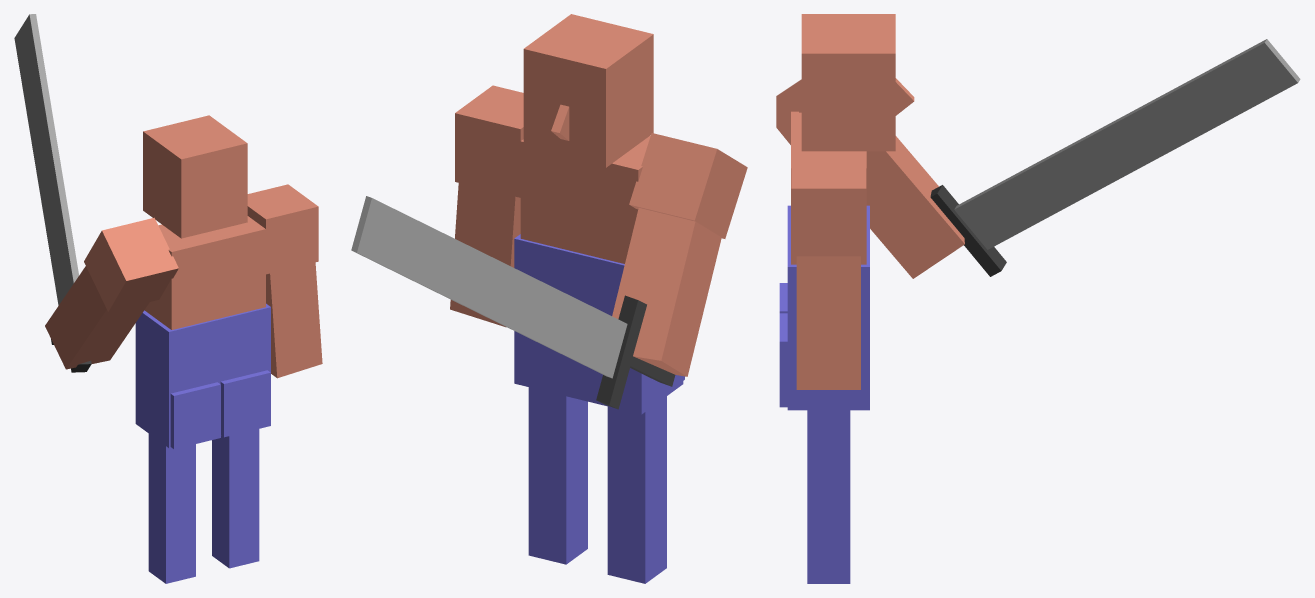
Rendered from Hero.fbx.
3 renders of one model, left to right at view 1: azimuth 30°, elevation 25°; view 2: azimuth 150°, elevation 25°; view 3: azimuth 270°, elevation 25°, orthographic. The views are drawn at different scales.
Parts seen in each view (by area): view 1: Cube.009, Cube.003, Cube.004, Cube.012, Cube.001, Cube.002, Cube.005, Cube.006, Cube.008, Cube.007, Cube.013, Cube.014; view 2: Cube.012, Cube.009, Cube.006, Cube.004, Cube.001, Cube.003, Cube.002, Cube.005, Cube.007, Cube.008, Cube.011, Cube.010 (+1 smaller); view 3: Cube.012, Cube.009, Cube.008, Cube.006, Cube.002, Cube.007, Cube.003, Cube.011, Cube.004, Cube.005, Cube.014.
Boxes of the visible parts, x1,y1,x2,y2 form: Cube.009: [143, 115, 247, 238]; Cube.003: [135, 303, 270, 447]; Cube.004: [144, 216, 265, 329]; Cube.012: [14, 14, 78, 305]; Cube.001: [148, 434, 195, 583]; Cube.002: [212, 429, 259, 568]; Cube.005: [84, 217, 178, 311]; Cube.006: [45, 266, 149, 369]; Cube.008: [266, 262, 322, 378]; Cube.007: [247, 184, 318, 274]; Cube.013: [170, 382, 220, 449]; Cube.014: [220, 370, 270, 437]; Cube.012: [351, 196, 627, 378]; Cube.009: [523, 14, 653, 167]; Cube.006: [612, 208, 721, 376]; Cube.004: [520, 135, 650, 263]; Cube.001: [607, 396, 666, 583]; Cube.003: [514, 234, 683, 414]; Cube.002: [528, 387, 587, 564]; Cube.005: [629, 133, 747, 238]; Cube.007: [455, 85, 523, 197]; Cube.008: [450, 183, 520, 327]; Cube.011: [596, 295, 646, 409]; Cube.010: [627, 346, 675, 386]; Cube.012: [954, 39, 1300, 249]; Cube.009: [801, 14, 895, 151]; Cube.008: [796, 256, 860, 389]; Cube.006: [866, 136, 964, 278]; Cube.002: [807, 410, 850, 583]; Cube.007: [791, 157, 866, 256]; Cube.003: [787, 205, 869, 410]; Cube.011: [930, 185, 1006, 276]; Cube.004: [791, 111, 866, 264]; Cube.005: [776, 79, 801, 144]; Cube.014: [779, 313, 787, 407].
Size of the model in its own units: 209 by 402 by 366.
